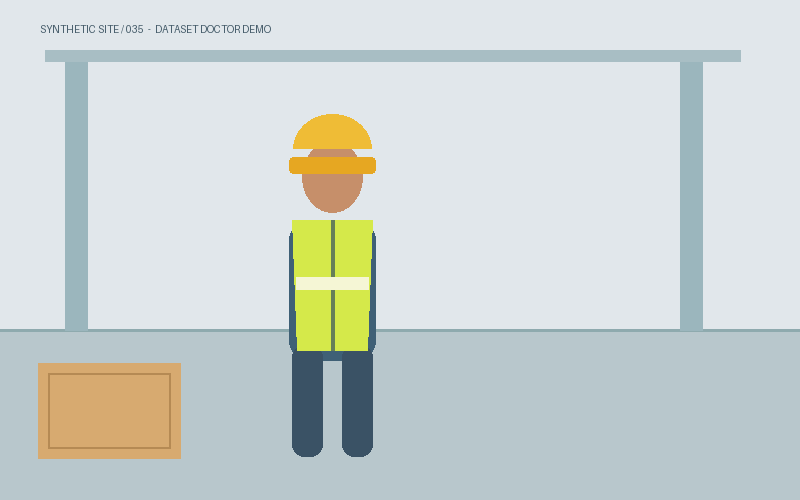Reflective-Jacket: (292, 220, 372, 350)
Safety-Helmet: (289, 127, 375, 173)
